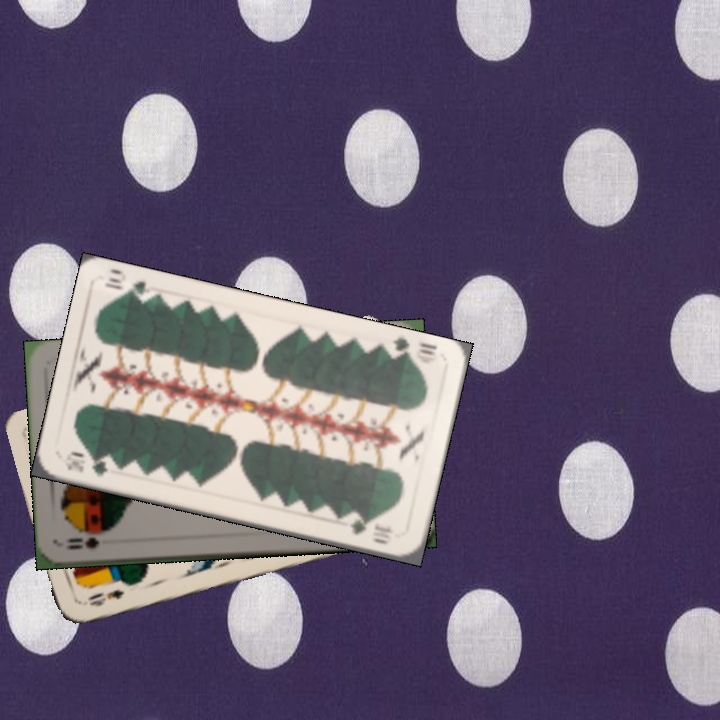EO: (83, 585, 127, 609)
G10: (383, 333, 440, 366), (59, 452, 110, 479)
SO: (61, 533, 102, 552)
